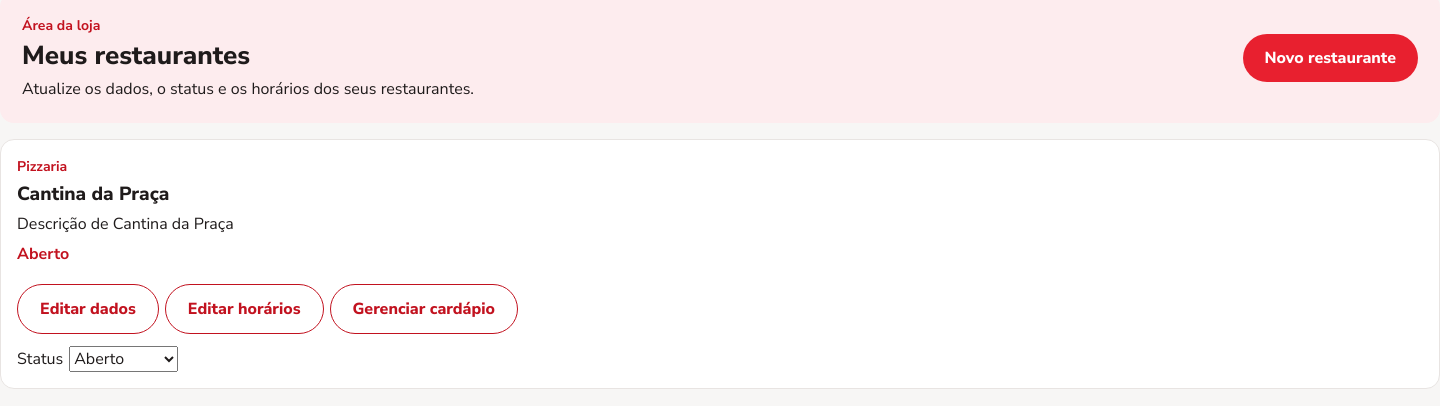
Test case: PainelRestaurantes › envia a alteração de status autenticada e exibe a mensagem 403 da API
The image size is (1440, 406).
Expected: the heading "Cantina da Praça" is shown, x1=17 y1=181 x2=169 y2=207
Select "Fechado" in the dropdown labelled "Status": (124, 359) x1=69 y1=346 x2=178 y2=372
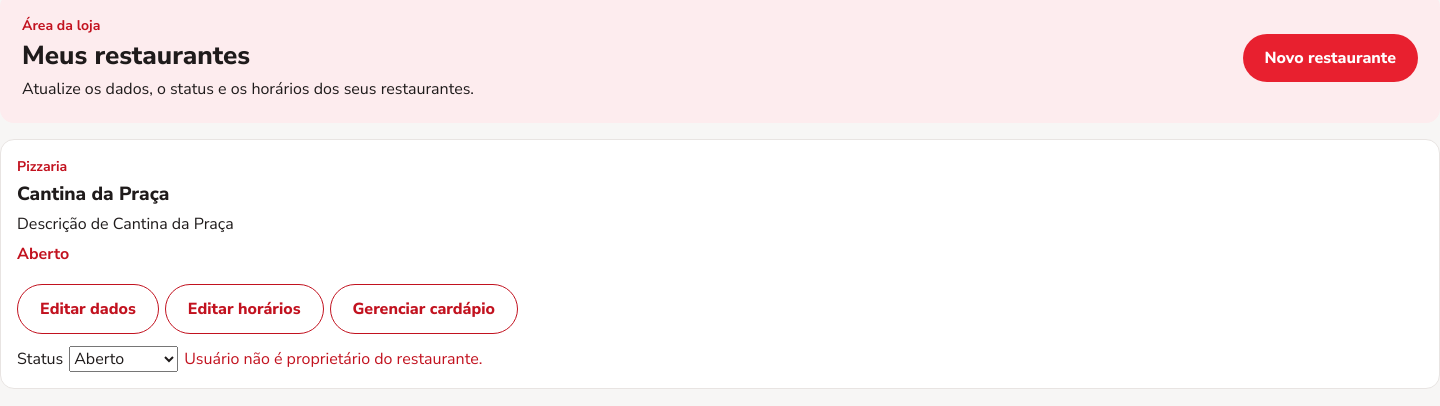
Expected: the message shows "não é proprietário", x1=184 y1=348 x2=482 y2=370
